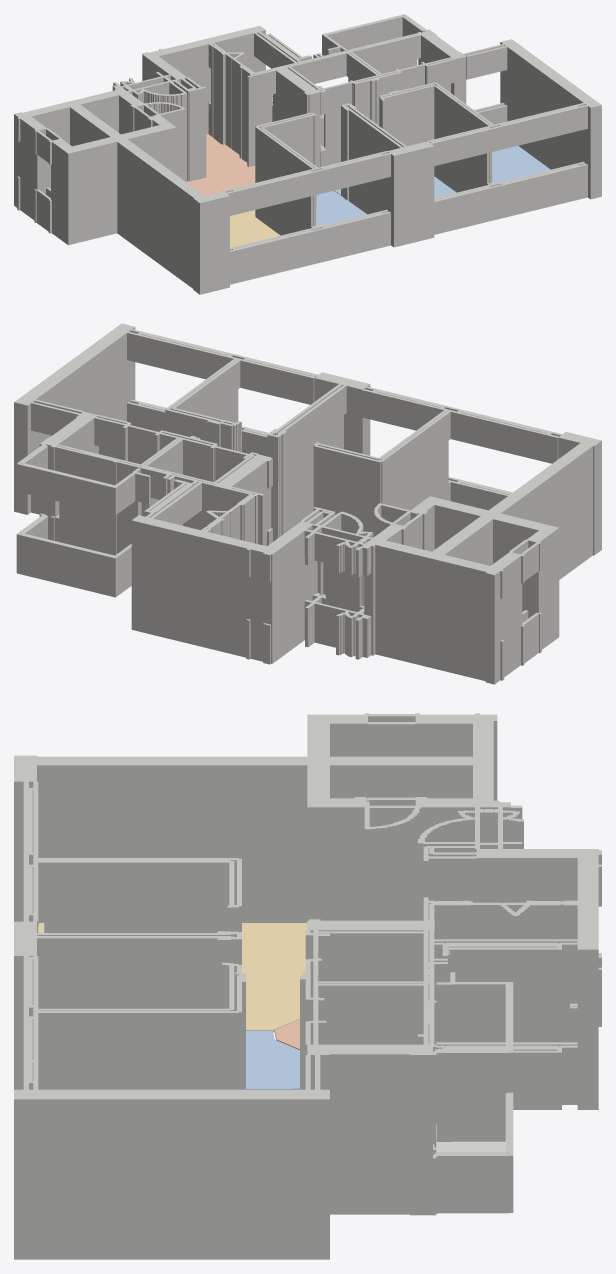
The picture shows the model from 3 angles, top to bottom: view 1: azimuth 30°, elevation 25°; view 2: azimuth 150°, elevation 25°; view 3: azimuth 270°, elevation 25°; orthographic projection. The views are drawn at different scales.
Visible parts, largest first — view 1: walls, room:kitchen:0, room:bedroom:9, room:living:4, room:bedroom:5; view 2: walls; view 3: walls, room:living:4, room:bedroom:5, room:ledge:6.
Boxes of the visible parts, x1,y1,x2,y2 form: walls: [14, 14, 601, 294]; room:kitchen:0: [187, 134, 255, 195]; room:bedroom:9: [492, 146, 550, 183]; room:living:4: [230, 210, 280, 247]; room:bedroom:5: [316, 191, 366, 226]; walls: [14, 323, 601, 684]; walls: [14, 713, 601, 1259]; room:living:4: [38, 923, 307, 1032]; room:bedroom:5: [246, 1030, 299, 1089]; room:ledge:6: [436, 1139, 505, 1152].
Size of the model in its own units: 14.45 by 2.8 by 9.3.
